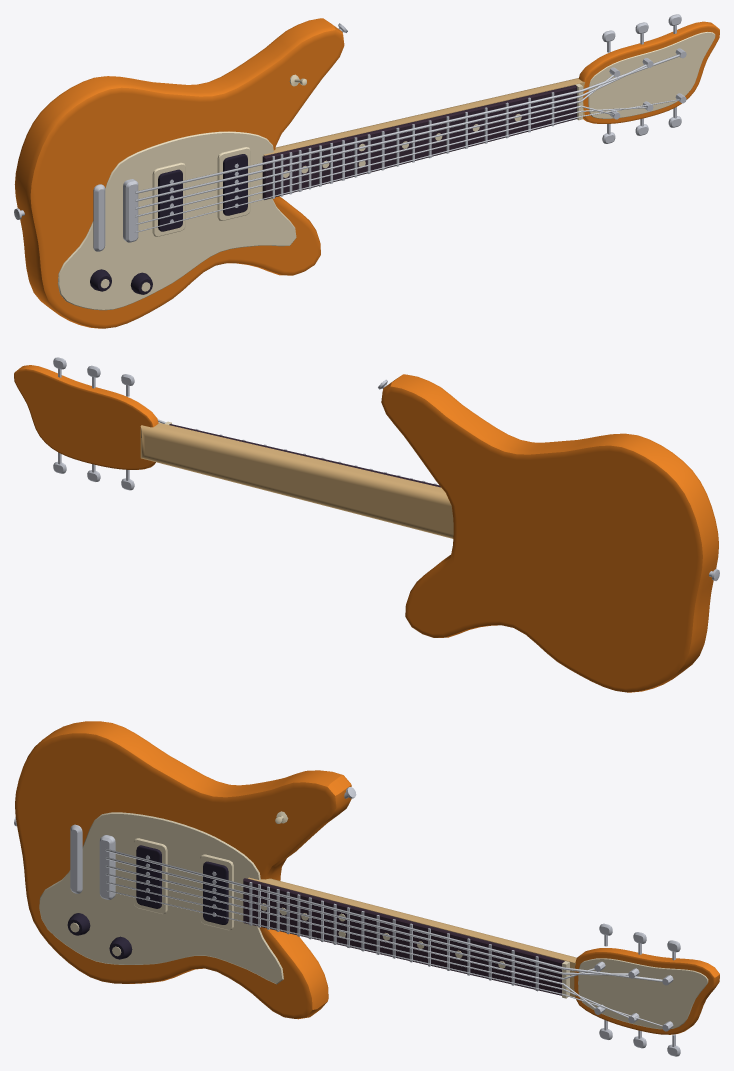
File: guitar.glb
3 renders of one model, top to bottom at view 1: azimuth 30°, elevation 25°; view 2: azimuth 150°, elevation 25°; view 3: azimuth 330°, elevation 25°, orthographic. The views are drawn at different scales.
Visible parts, largest first — view 1: guitar_body, string_6, string_5, string_4, string_3, string_2, string_1; view 2: guitar_body; view 3: guitar_body, string_6, string_5, string_4, string_3, string_2, string_1.
Part boxes in pixels (x1,y1,x2,y2): guitar_body: (14,14,719,328); string_6: (135,54,679,193); string_5: (135,64,646,201); string_4: (135,75,613,209); string_3: (135,105,613,217); string_2: (135,107,646,225); string_1: (135,99,679,232); guitar_body: (14,357,719,692); guitar_body: (14,721,719,1056); string_6: (105,848,662,981); string_5: (105,857,628,975); string_4: (105,865,594,979); string_3: (105,873,595,1008); string_2: (106,881,628,1017); string_1: (106,890,662,1026).
Bounding box in the file's own units: 0.9834 × 0.3362 × 0.0636.
